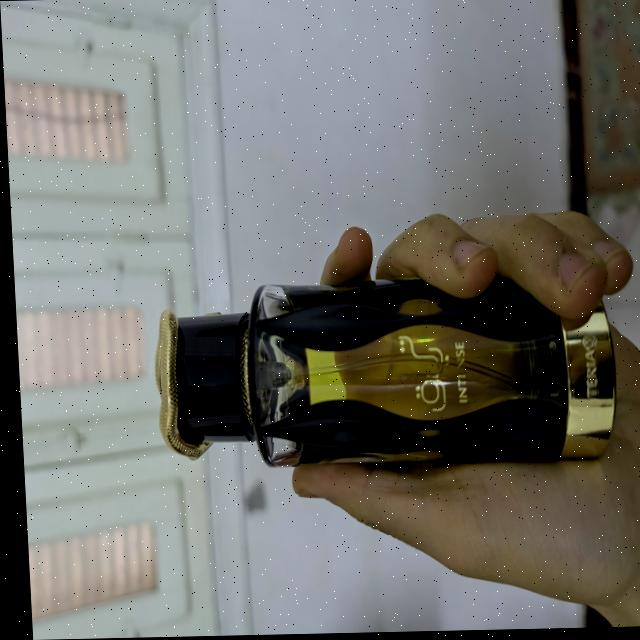Teriaq-Intense: (146, 274, 614, 474)
